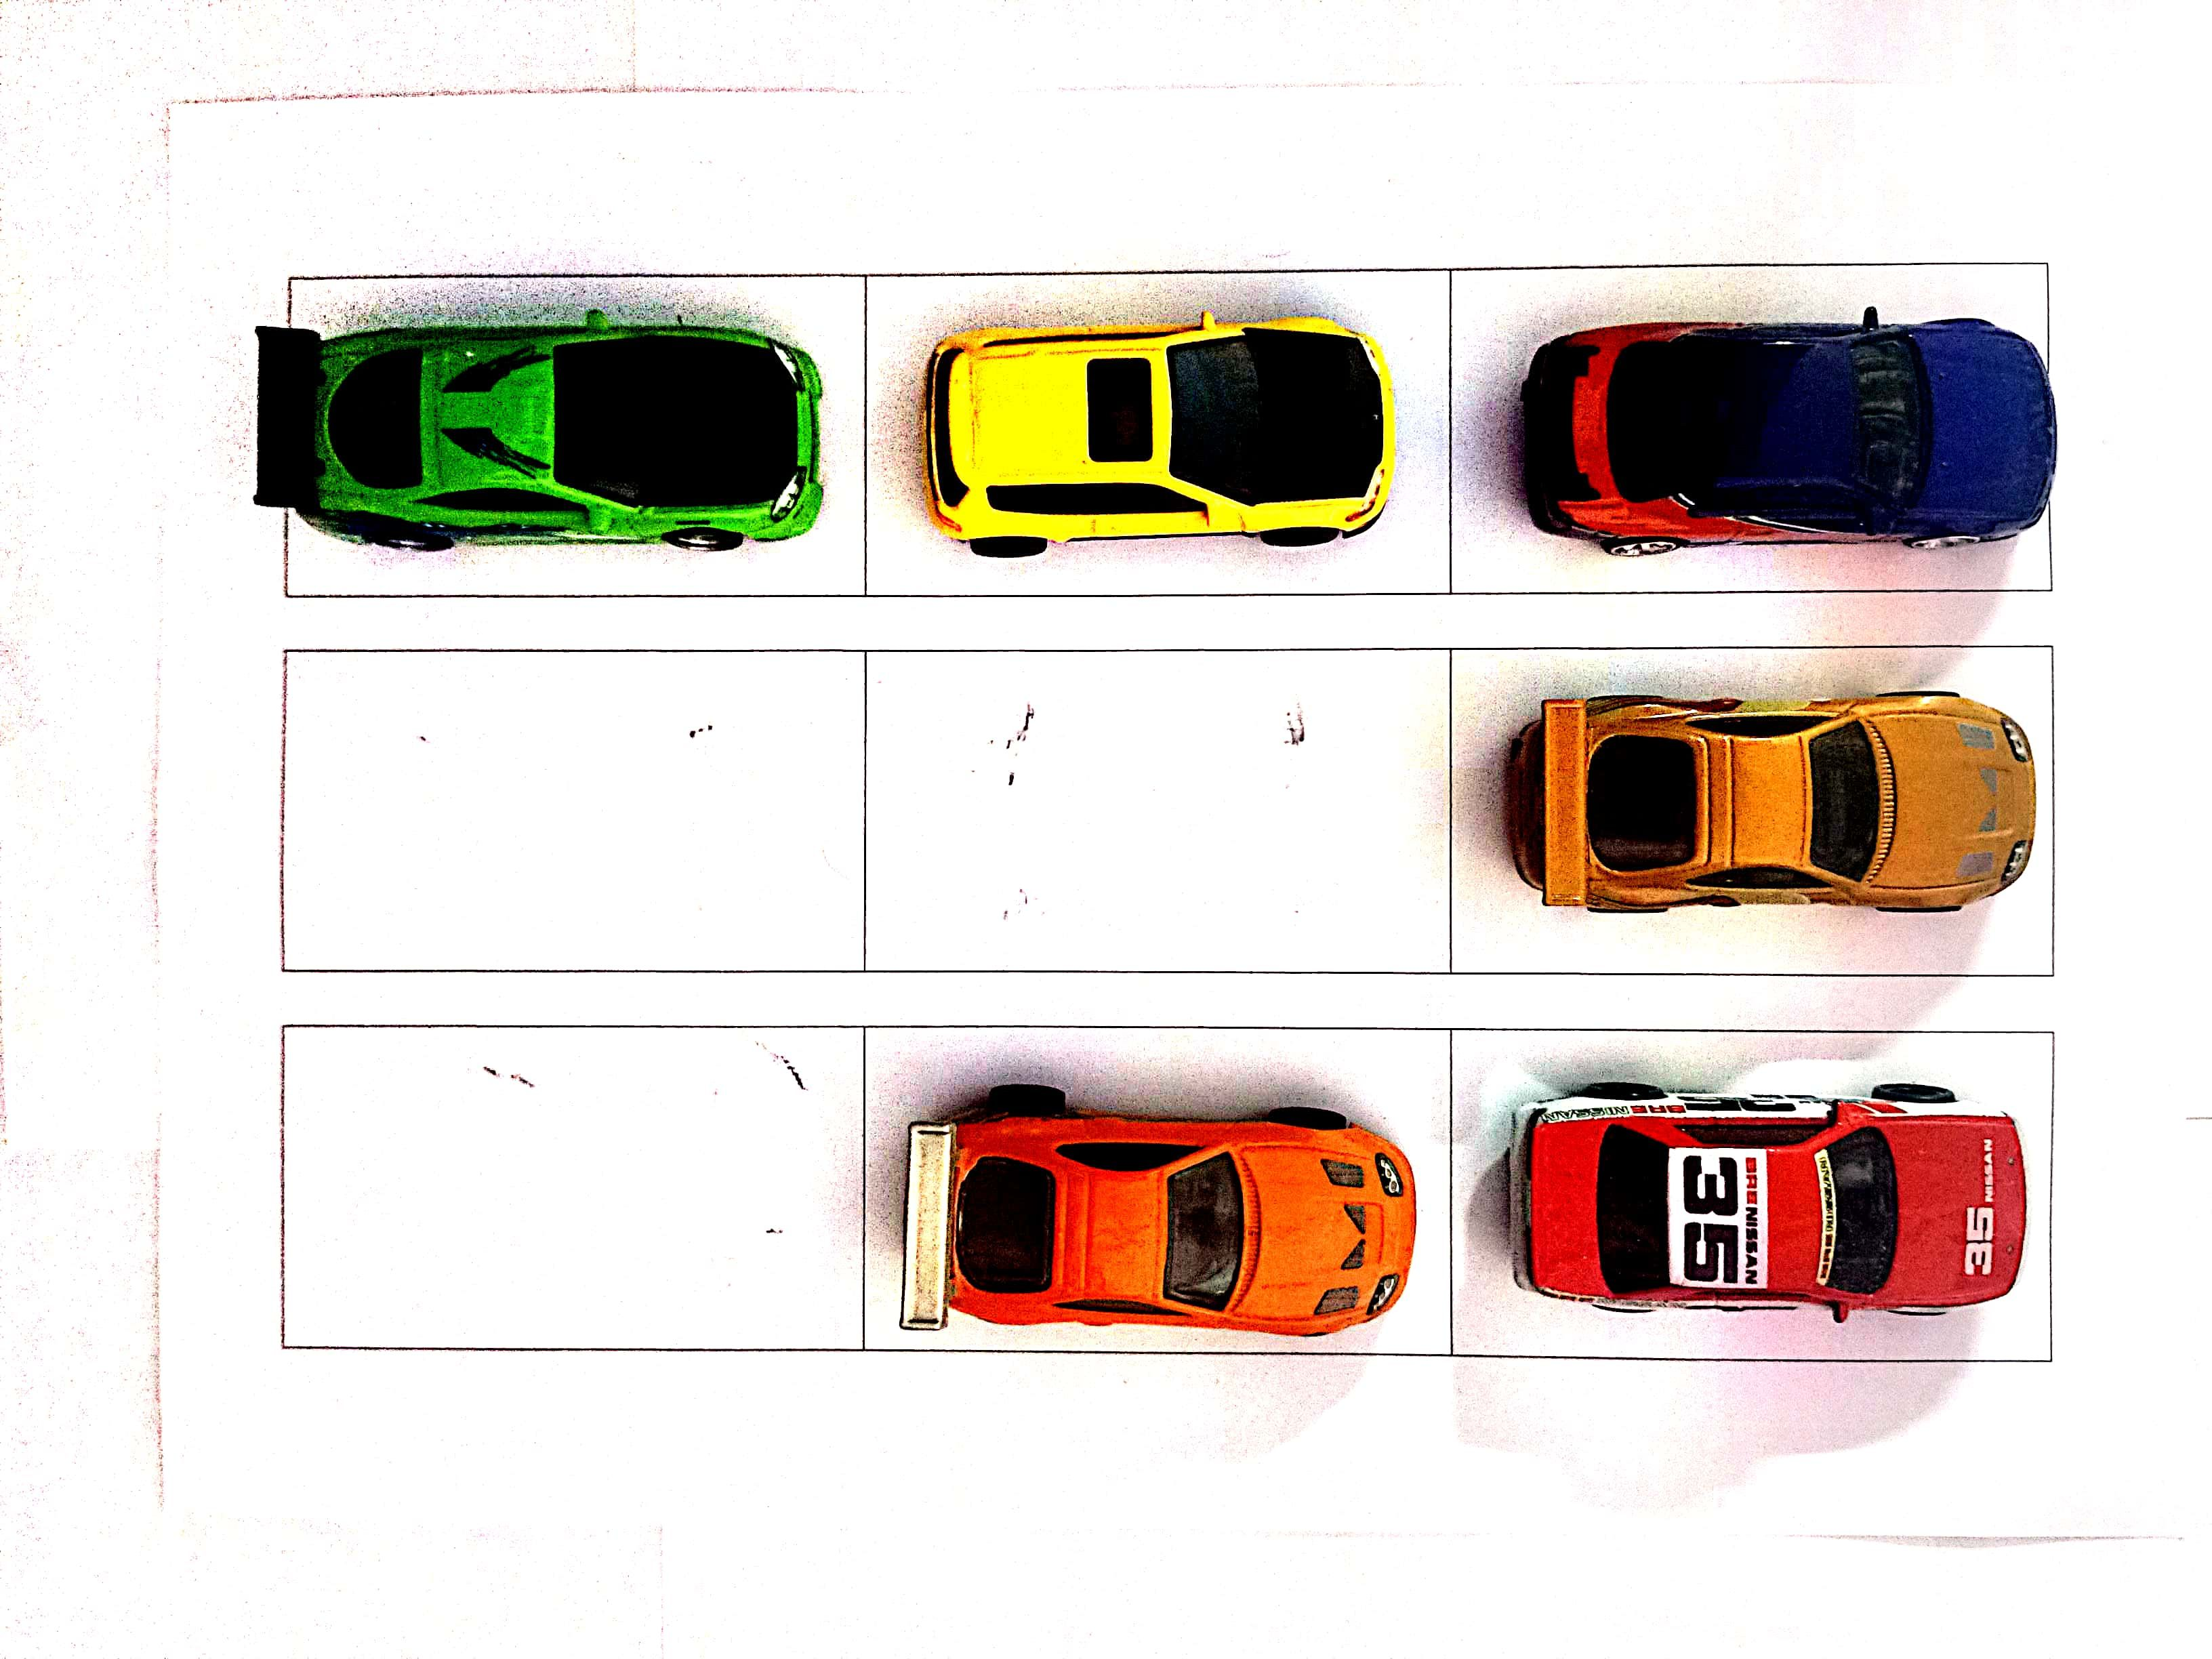Busy: (1451, 645, 2045, 979), (1446, 270, 2045, 598), (866, 1026, 1454, 1354), (1454, 1035, 2045, 1354), (282, 275, 860, 593), (869, 275, 1446, 589)
Free: (862, 657, 1458, 972), (286, 650, 871, 971), (287, 1028, 866, 1351)
